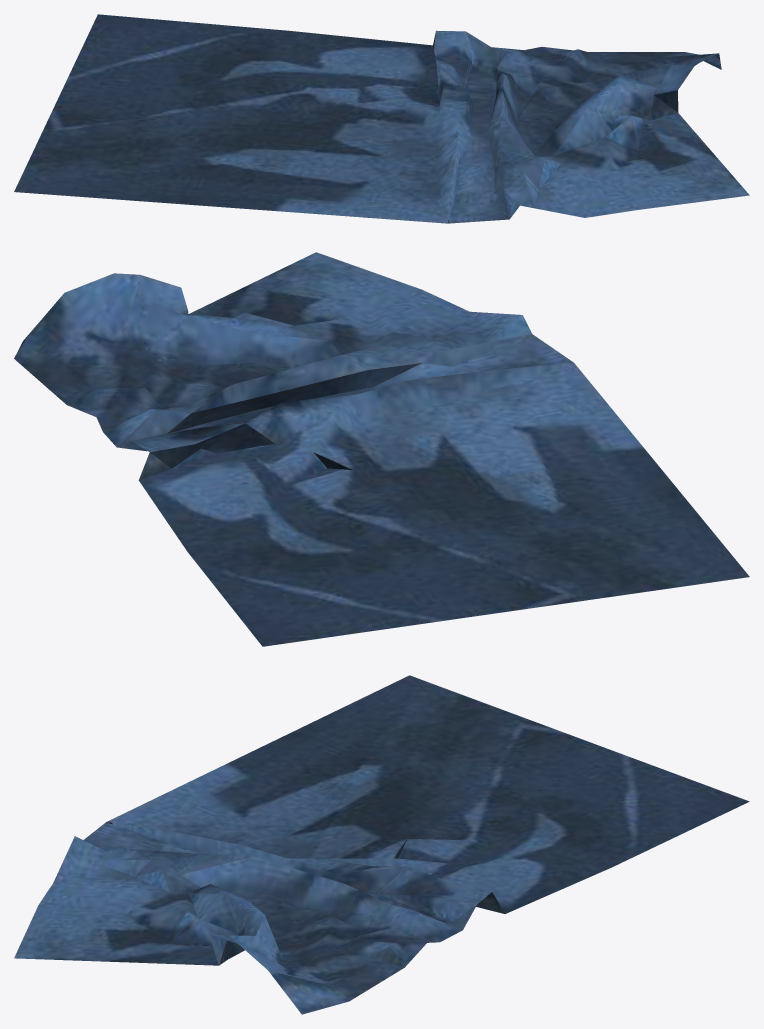
Rendered from rag_towel_blue_0_lod1_web.glb.
3 views of the same model, one above another, from view 1: azimuth 30°, elevation 25°; view 2: azimuth 150°, elevation 25°; view 3: azimuth 270°, elevation 25° (orthographic). The views are drawn at different scales.
Parts seen in each view (by area): view 1: rag_towel_blue_0_Cloth; view 2: rag_towel_blue_0_Cloth; view 3: rag_towel_blue_0_Cloth.
Boxes of the visible parts, x1,y1,x2,y2 form: rag_towel_blue_0_Cloth: [14, 14, 749, 223]; rag_towel_blue_0_Cloth: [14, 252, 749, 646]; rag_towel_blue_0_Cloth: [14, 675, 749, 1014].
Bounding box in the file's own units: 0.8874 × 0.0593 × 0.8154.
Materials: 1 (1 with a texture image).
